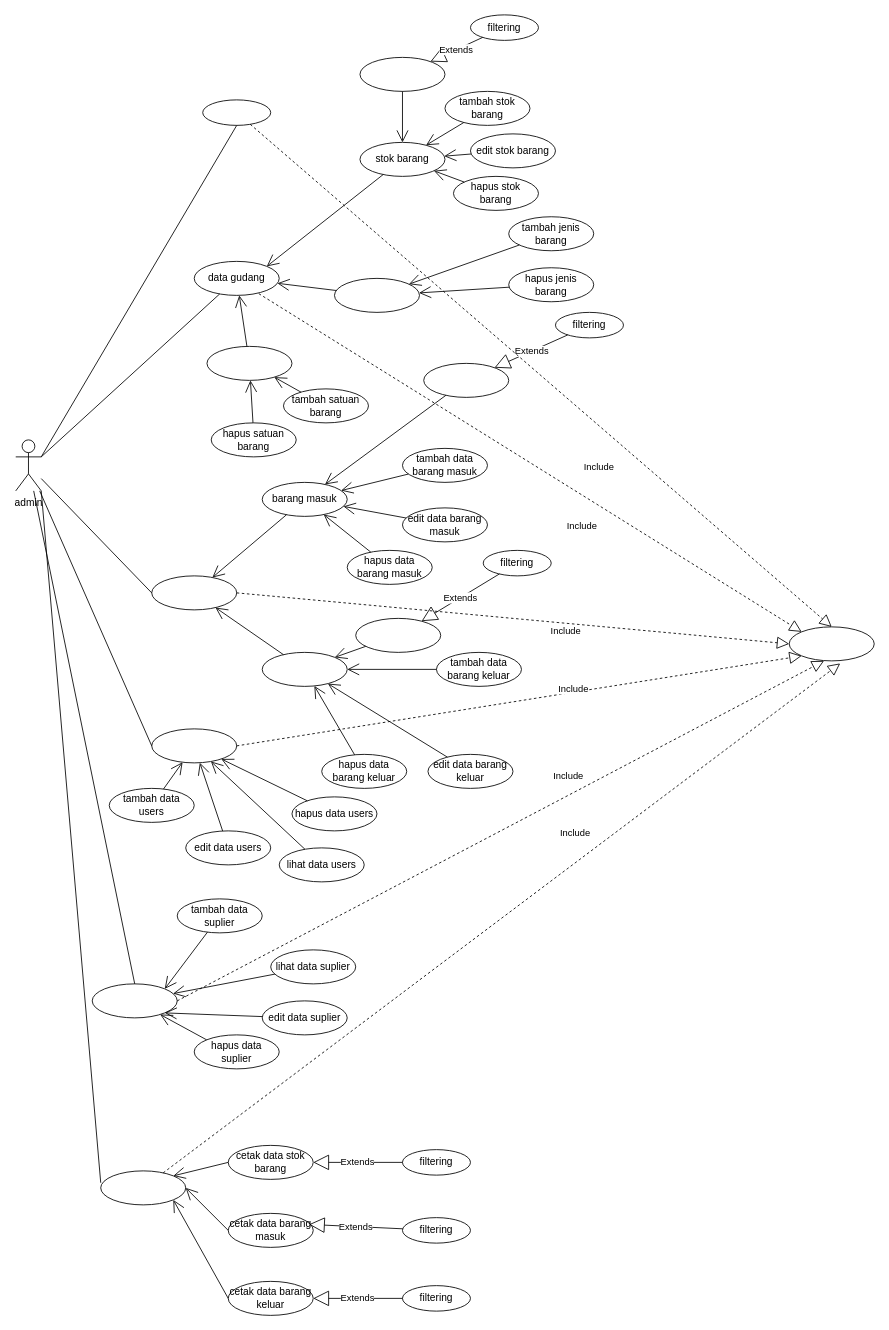
Image size: 889x1330. Some labels were removed from this diagram. Each missing label, with the centre of its shape:
"barang keluar" goes at point 304,669.
"data users" goes at point 194,745.
"jenis barang" goes at point 376,295.
"laporan" goes at point 143,1187.
"lihat data barang keluar" goes at point 398,635.
"lihat data barang masuk" goes at point 466,380.
"lihat stok barang" goes at point 402,74.
"login" goes at point 831,643.
"logout" goes at point 236,112.
"satuan" goes at point 249,363.
"suplier" goes at point 134,1000.
"transaksi" goes at point 194,592.
